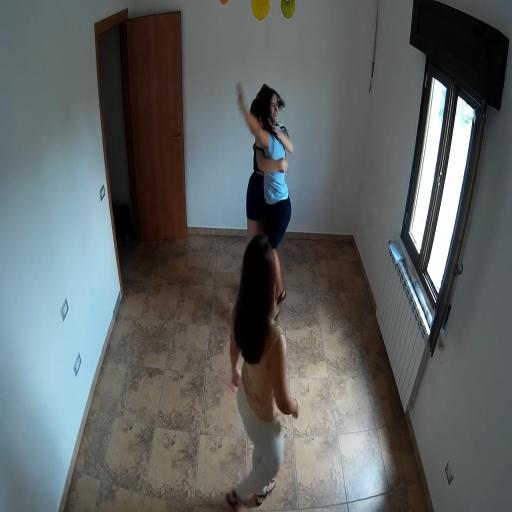nao-violencia: (216, 74, 316, 322)
